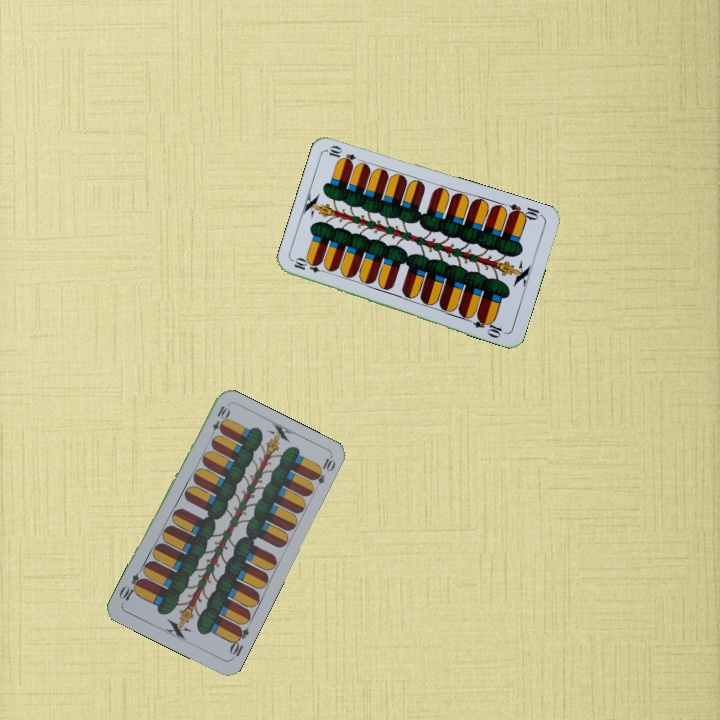E10: (225, 622, 252, 662), (206, 402, 231, 441), (505, 199, 545, 223), (290, 256, 330, 276)
